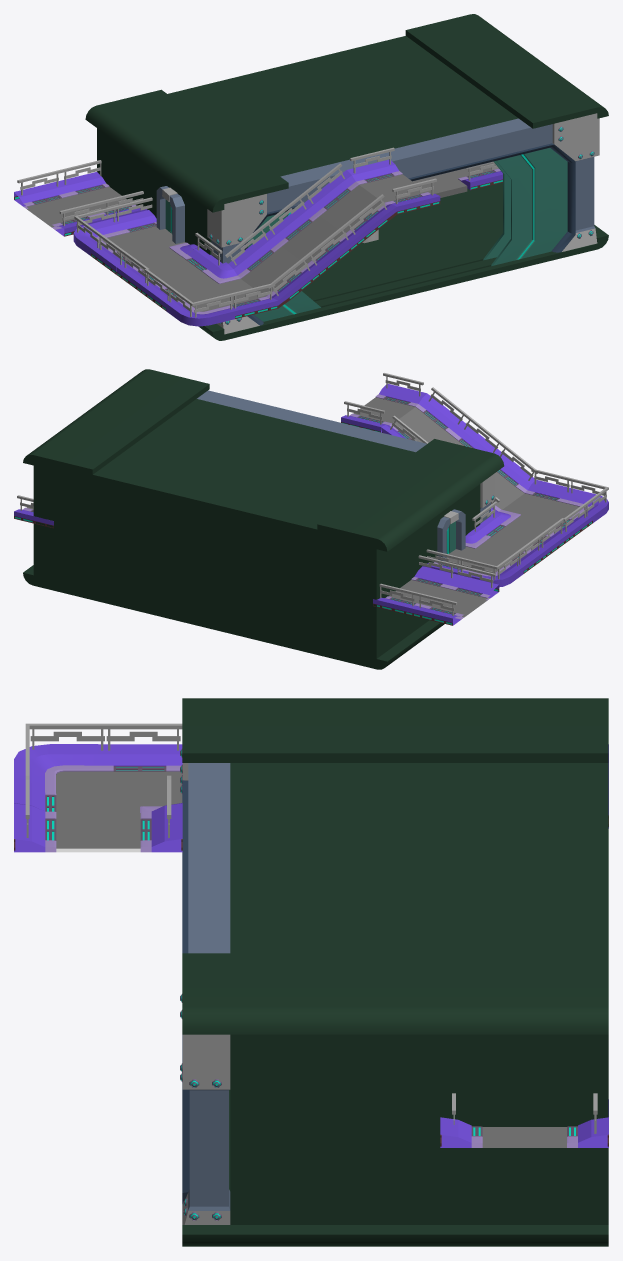
File: Garage_Tile.fbx
3 views of the same model, one above another, from view 1: azimuth 30°, elevation 25°; view 2: azimuth 150°, elevation 25°; view 3: azimuth 270°, elevation 25° (orthographic). The views are drawn at different scales.
Visible parts, largest first — view 1: polySurface1689; view 2: polySurface1689; view 3: polySurface1689.
Part boxes in pixels (bbox=[...]): polySurface1689: bbox=[14, 14, 608, 340]; polySurface1689: bbox=[14, 369, 608, 669]; polySurface1689: bbox=[14, 698, 608, 1246].
Bounding box in the file's own units: 21.98 × 7.31 × 14.15.
